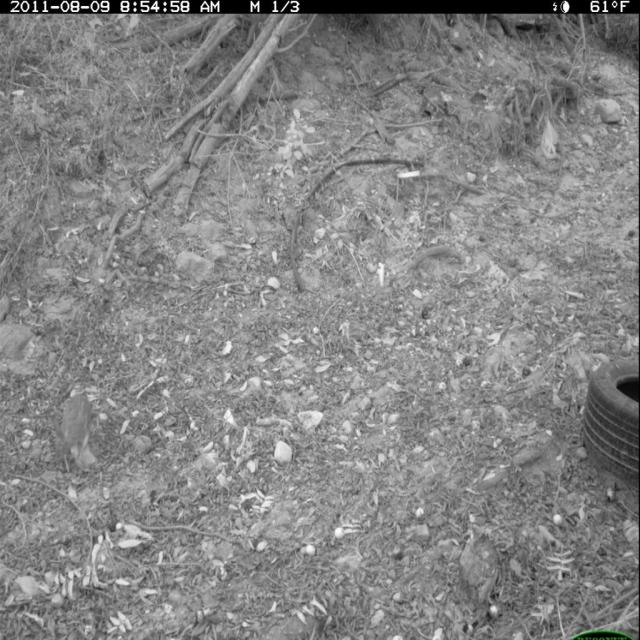rabbit: (47, 386, 104, 480)
